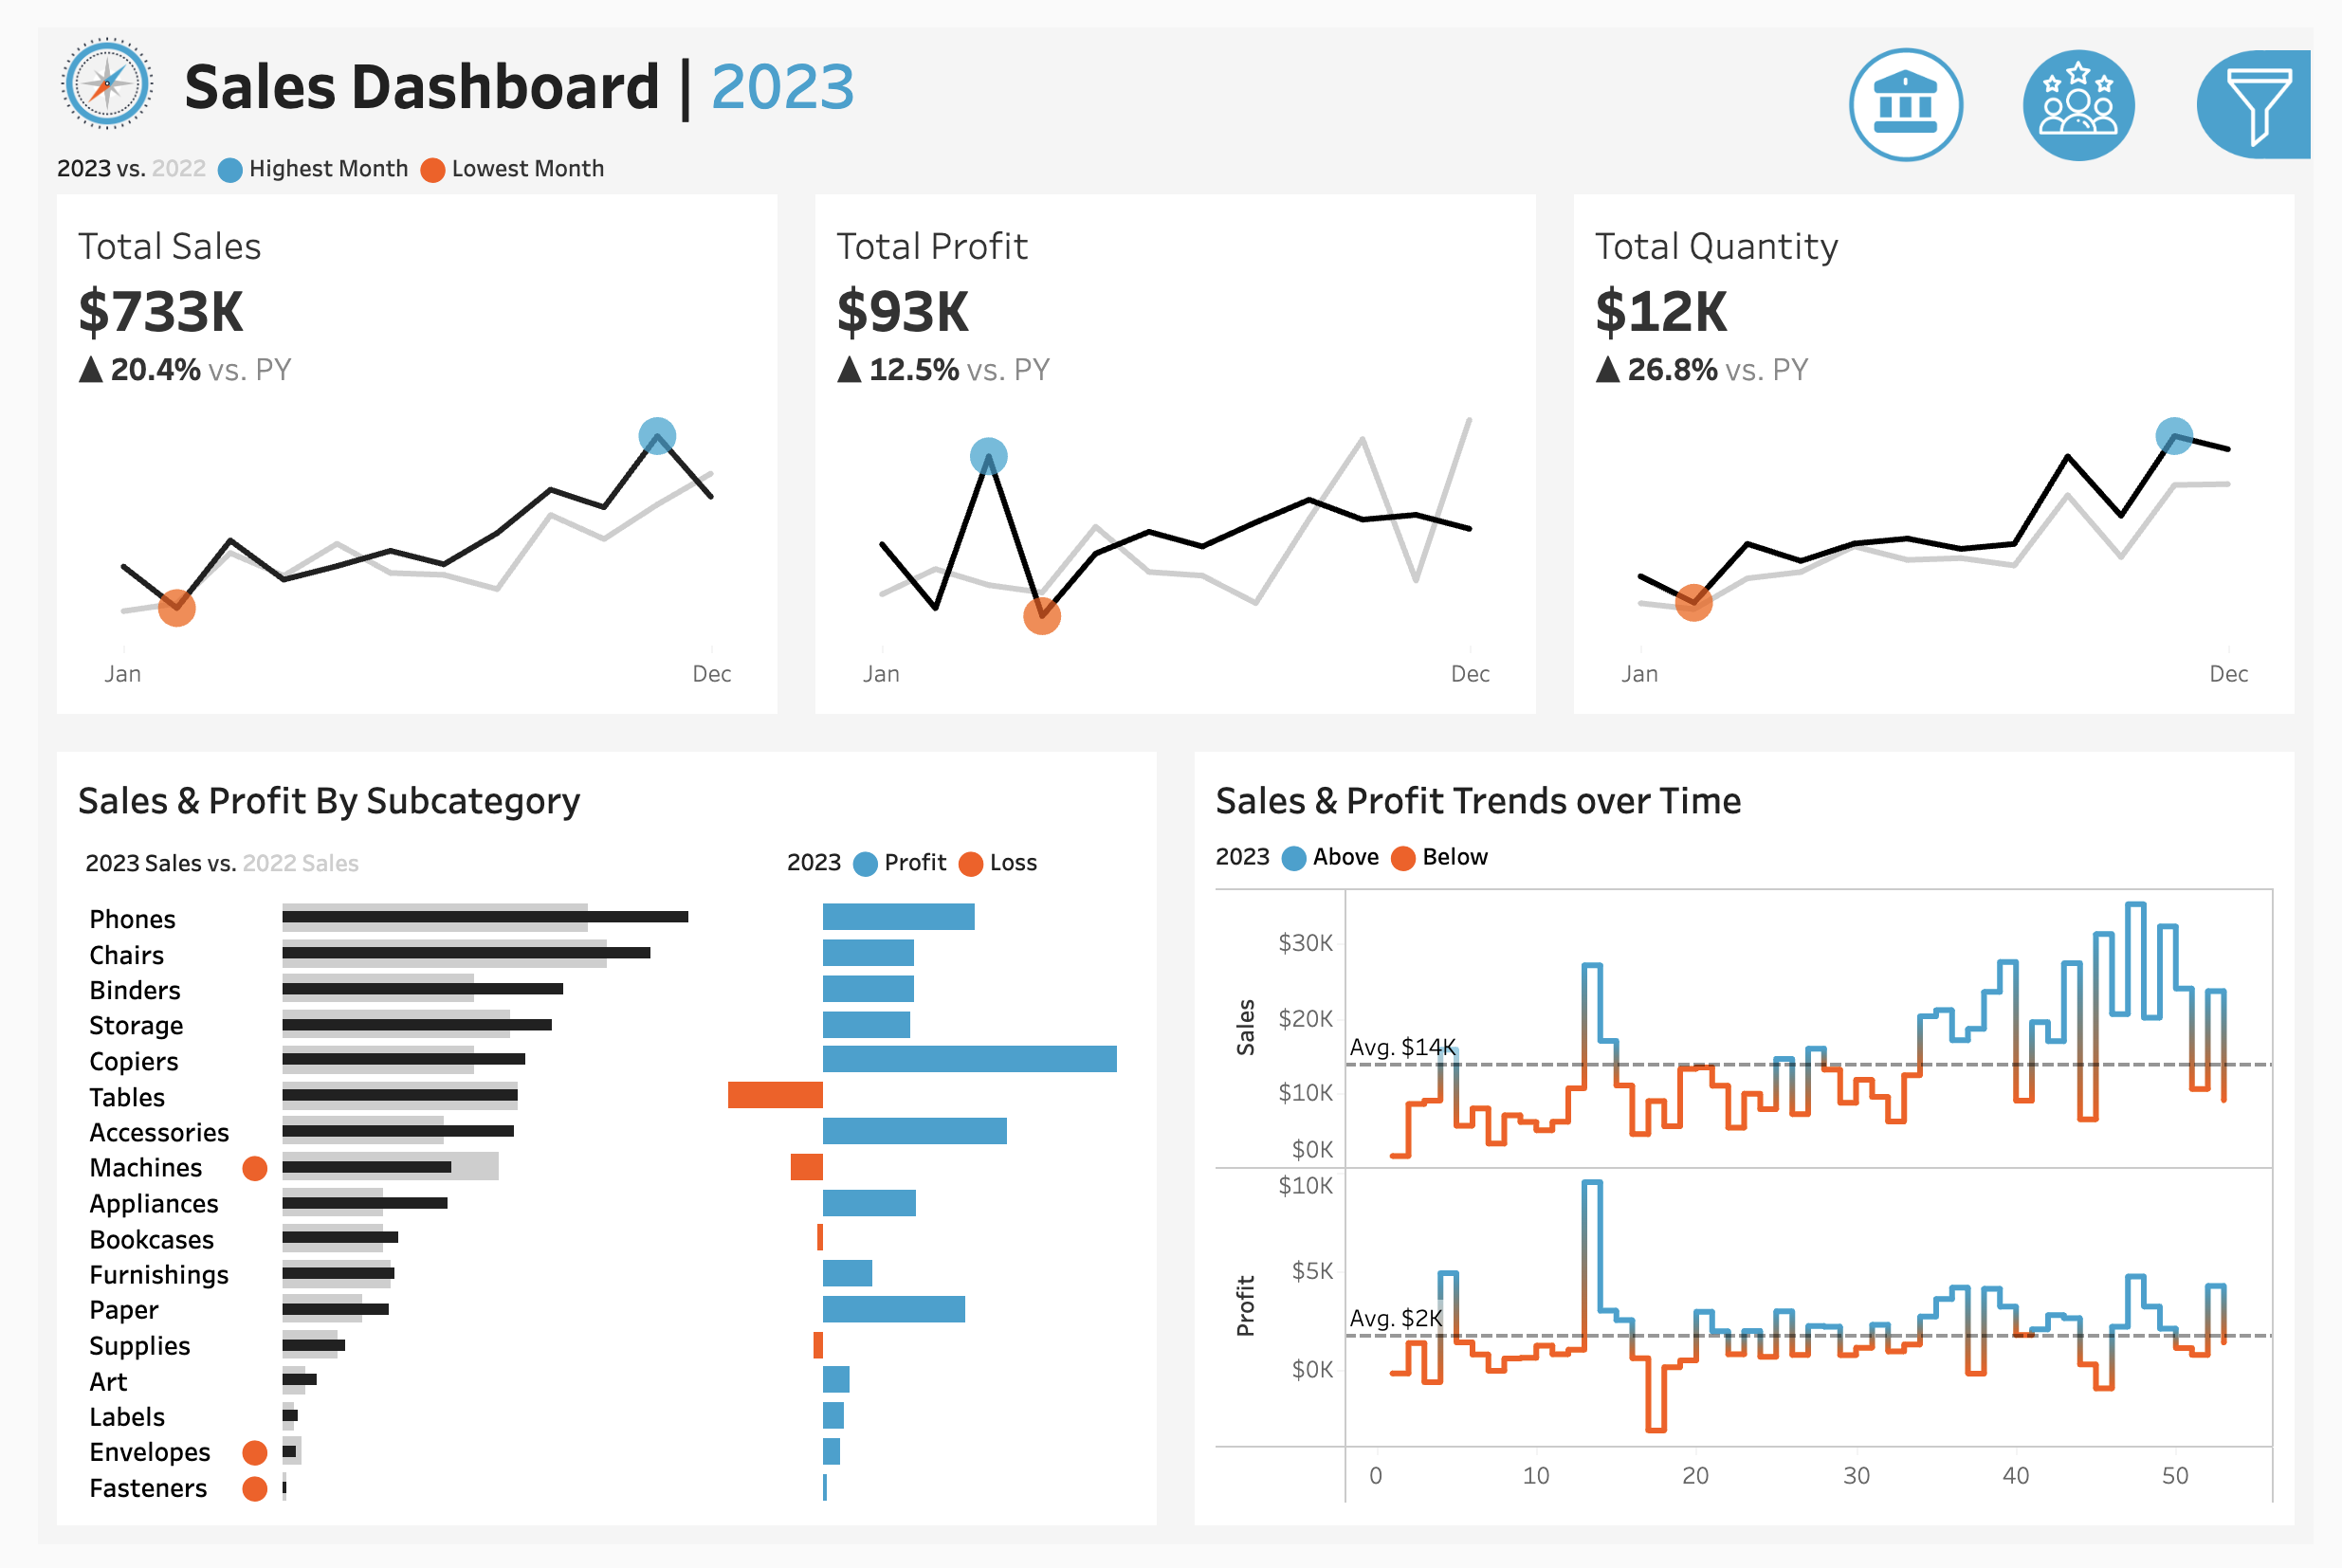

The page's visual inventory and layout, read from the dashboard file:
{"tool":"tableau","page":{"name":"Sales Dashboard","canvas":[1200,800],"ordinal":1},"visuals":[{"type":"image","param":"Image/Icon - Logo.png","box":[0,0,73,59]},{"type":"text","box":[73,0,820,59]},{"type":"dashboard-object","box":[940,6,91,70]},{"type":"dashboard-object","box":[1031,6,91,70]},{"type":"blank","box":[952,10,237,86]},{"type":"worksheet","title":"Legend KPI","mark":"Automatic","box":[0,59,1200,29]},{"type":"worksheet","title":"KPI Sales","mark":"Automatic","rows":["Calculation_721701895347843083"],"cols":["Order Date"],"box":[0,88,400,284]},{"type":"worksheet","title":"KPI Profit","mark":"Automatic","rows":["Min/Max Sales (copy)_237846410425847814"],"cols":["Order Date"],"box":[400,88,400,284]},{"type":"worksheet","title":"KPI Quantity","mark":"Automatic","rows":["Min/Max Sales (copy) (copy)_237846410425856007"],"cols":["Order Date"],"box":[800,88,400,284]},{"type":"text","box":[952,96,237,37]},{"type":"parameter","param":"[Parameters].[Parameter 1]","box":[952,133,237,55]},{"type":"text","box":[952,188,237,32]},{"type":"filter","title":"KPI Sales","param":"[federated.1kpxa041aiai2y1cl4pui1t4eju9].[none:Category:nk]","box":[952,220,237,57]},{"type":"filter","title":"KPI Sales","param":"[federated.1kpxa041aiai2y1cl4pui1t4eju9].[none:Sub-Category:nk]","box":[952,277,237,57]},{"type":"blank","box":[952,334,237,60]},{"type":"text","box":[17,389,566,37]},{"type":"text","box":[617,389,566,37]},{"type":"text","box":[952,394,237,32]},{"type":"worksheet","title":"Legend Subcategory","mark":"Automatic","box":[17,426,374,32]},{"type":"text","box":[391,426,192,32]},{"type":"text","box":[617,426,566,28]},{"type":"filter","title":"KPI Sales","param":"[federated.1kpxa041aiai2y1cl4pui1t4eju9].[none:Region:nk]","box":[952,426,237,57]},{"type":"worksheet","title":"Weekly Trends","mark":"Automatic","rows":["Calculation_721701895334993921","CY Sales (copy)_237846410424180736"],"cols":["Order Date"],"box":[617,454,566,329]},{"type":"worksheet","title":"Subcategory Comparison","mark":"Bar","rows":["Sub-Category","Calculation_2435040078806671369"],"cols":["CY Sales (copy)_721701895335804930","Calculation_721701895334993921","CY Sales (copy)_237846410424180736"],"box":[17,458,566,324.9]},{"type":"filter","title":"KPI Sales","param":"[federated.1kpxa041aiai2y1cl4pui1t4eju9].[none:State:nk]","box":[952,483,237,57]},{"type":"filter","title":"KPI Sales","param":"[federated.1kpxa041aiai2y1cl4pui1t4eju9].[none:City:nk]","box":[952,540,237,57]}]}

Visuals, with their boxes in screenshot pixels (x1, y1, x2, y2), scaled from the page's 1200x800 canvas onto the 2342x1568 screenshot:
image: x1=0, y1=0, x2=142, y2=116
text: x1=142, y1=0, x2=1743, y2=116
dashboard-object: x1=1835, y1=11, x2=2012, y2=149
dashboard-object: x1=2012, y1=11, x2=2189, y2=149
blank: x1=1858, y1=20, x2=2320, y2=188
"Legend KPI" worksheet: x1=0, y1=116, x2=2341, y2=173
"KPI Sales" worksheet: x1=0, y1=173, x2=780, y2=729
"KPI Profit" worksheet: x1=780, y1=173, x2=1562, y2=729
"KPI Quantity" worksheet: x1=1562, y1=173, x2=2341, y2=729
text: x1=1858, y1=188, x2=2320, y2=261
parameter: x1=1858, y1=261, x2=2320, y2=369
text: x1=1858, y1=369, x2=2320, y2=431
"KPI Sales" filter: x1=1858, y1=431, x2=2320, y2=543
"KPI Sales" filter: x1=1858, y1=543, x2=2320, y2=655
blank: x1=1858, y1=655, x2=2320, y2=773
text: x1=33, y1=762, x2=1138, y2=835
text: x1=1204, y1=762, x2=2309, y2=835
text: x1=1858, y1=773, x2=2320, y2=835
"Legend Subcategory" worksheet: x1=33, y1=835, x2=763, y2=898
text: x1=763, y1=835, x2=1138, y2=898
text: x1=1204, y1=835, x2=2309, y2=890
"KPI Sales" filter: x1=1858, y1=835, x2=2320, y2=947
"Weekly Trends" worksheet: x1=1204, y1=890, x2=2309, y2=1535
"Subcategory Comparison" worksheet (Bar marks): x1=33, y1=898, x2=1138, y2=1535
"KPI Sales" filter: x1=1858, y1=947, x2=2320, y2=1058
"KPI Sales" filter: x1=1858, y1=1058, x2=2320, y2=1170
